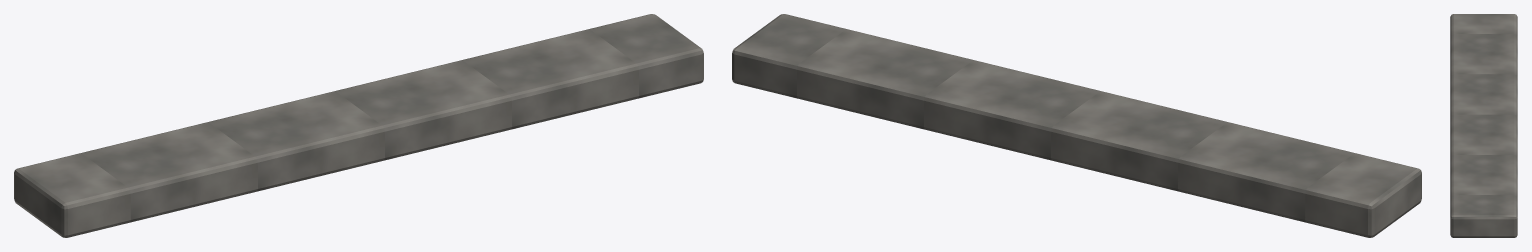
The model's file is Street_BlockR2_Coping.obj.
3 views of the same model, side by side, from view 1: azimuth 30°, elevation 25°; view 2: azimuth 150°, elevation 25°; view 3: azimuth 270°, elevation 25° (orthographic). The views are drawn at different scales.
Size of the model in its own units: 2.3 by 0.12 by 0.32.
1 material, 1 textured.
